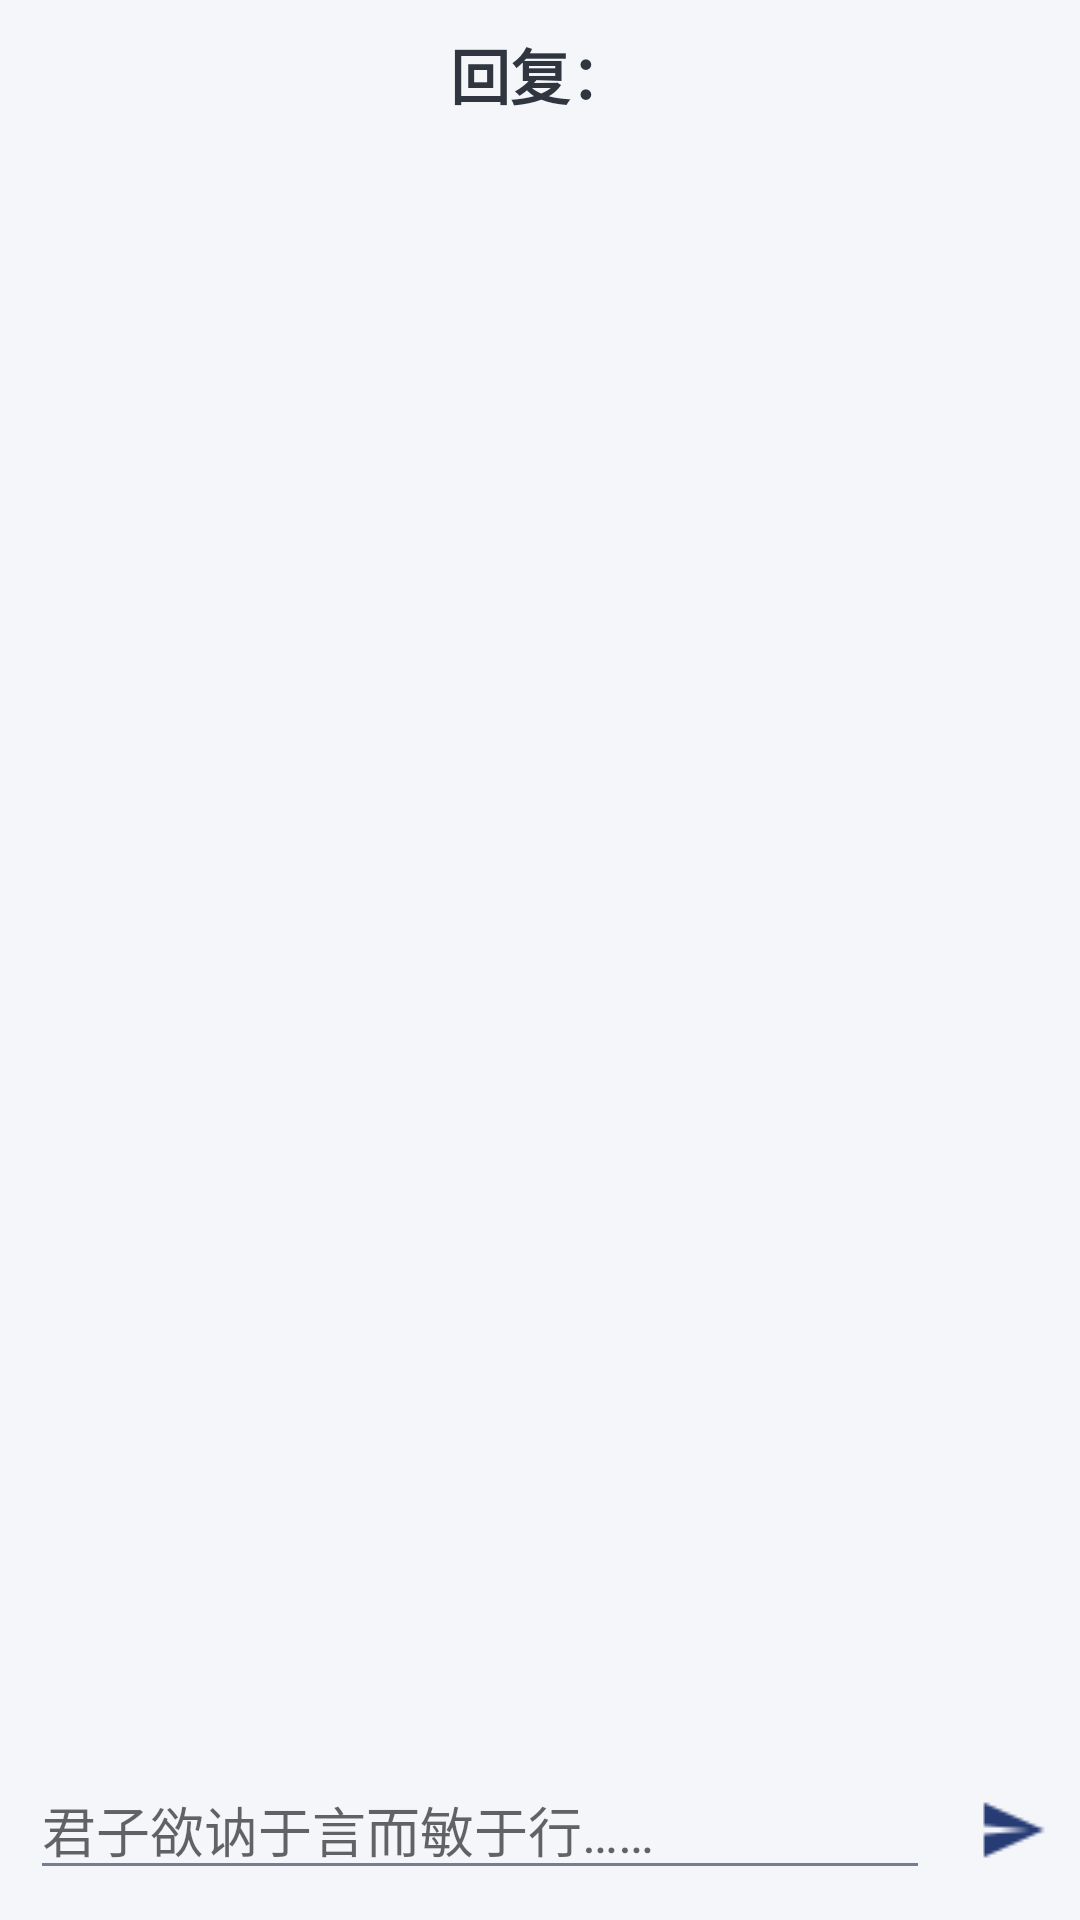

Named icons in this screenshot (1080×1920) and their bounding boxes, (x1, y1, x2, y2):
send: (983, 1802, 1044, 1858)
